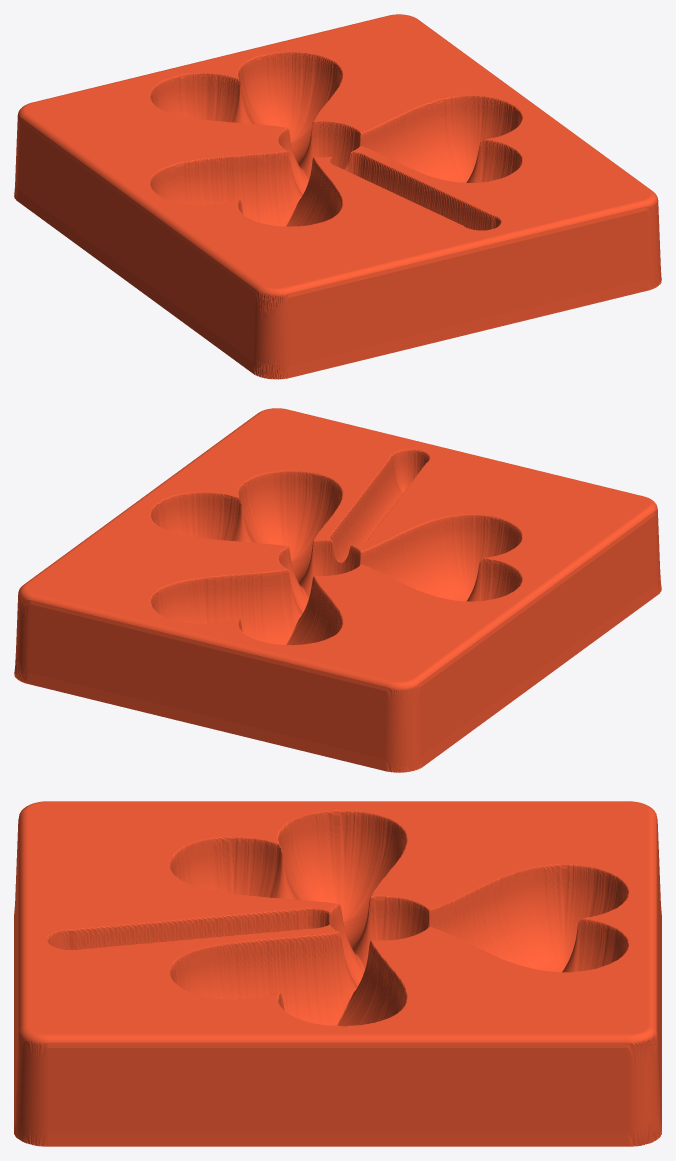
The model's file is mold.glb.
3 views of the same model, one above another, from view 1: azimuth 30°, elevation 25°; view 2: azimuth 150°, elevation 25°; view 3: azimuth 270°, elevation 25° (orthographic). The views are drawn at different scales.
Visible parts, largest first — view 1: geometry_0; view 2: geometry_0; view 3: geometry_0.
Part boxes in pixels (box(x1,y1,x2,y2)): geometry_0: box(14, 14, 661, 379); geometry_0: box(14, 408, 661, 772); geometry_0: box(14, 801, 661, 1146).
Size of the model in its own units: 0.1522 by 0.031 by 0.1709.
